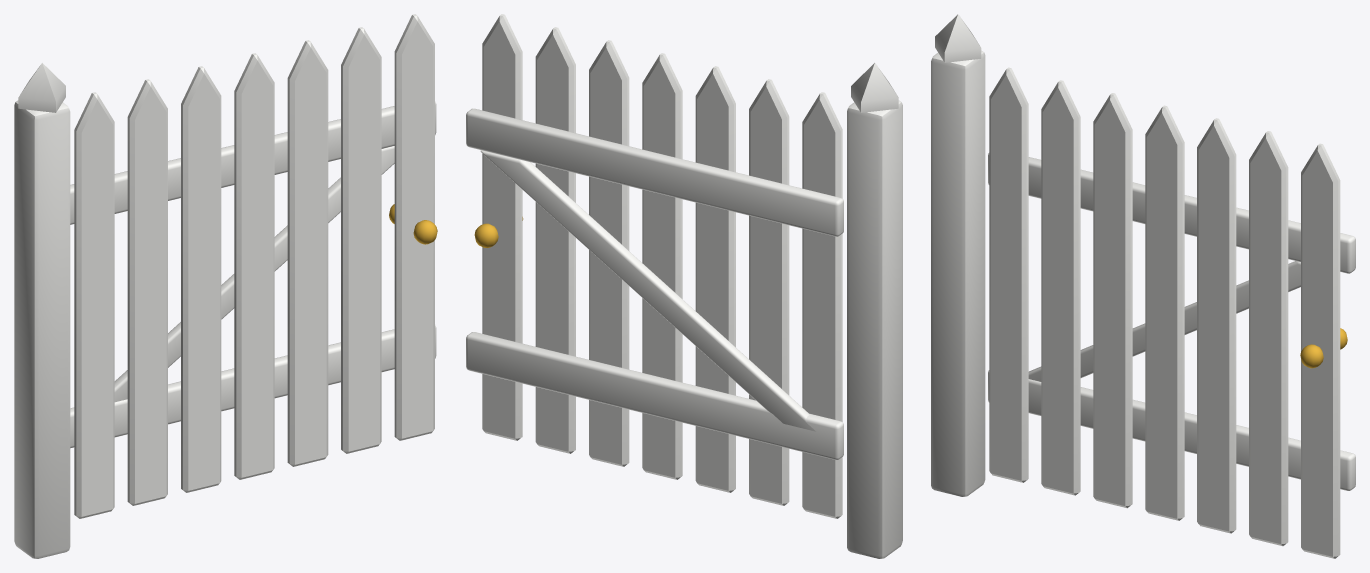
File: portao_pedestre_madeira.glb
3 views of the same model, side by side, from view 1: azimuth 30°, elevation 25°; view 2: azimuth 150°, elevation 25°; view 3: azimuth 330°, elevation 25° (orthographic). The views are drawn at different scales.
Parts seen in each view (by area): view 1: porta_1, portao_pedestre_madeira; view 2: porta_1, portao_pedestre_madeira; view 3: porta_1, portao_pedestre_madeira.
Part boxes in pixels (x1,y1,x2,y2): porta_1: [70, 14, 437, 518]; portao_pedestre_madeira: [14, 63, 70, 558]; porta_1: [466, 14, 843, 518]; portao_pedestre_madeira: [847, 63, 902, 558]; porta_1: [988, 67, 1355, 558]; portao_pedestre_madeira: [931, 14, 985, 496].
Bounding box in the file's own units: 0.9908 × 1.09 × 0.15.
1 material, 1 textured.
